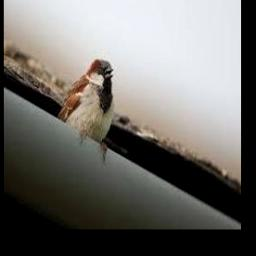Sparrow: (57, 60, 115, 158)
